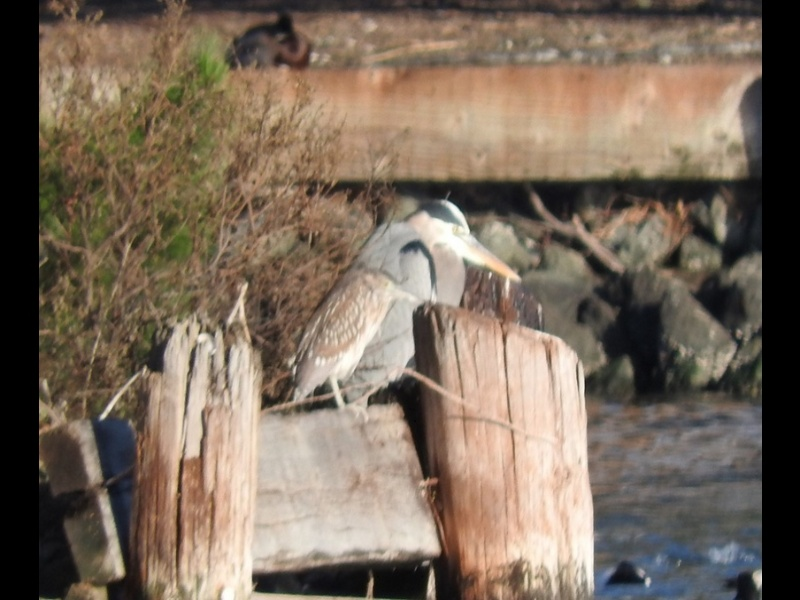heron: (288, 196, 526, 411)
